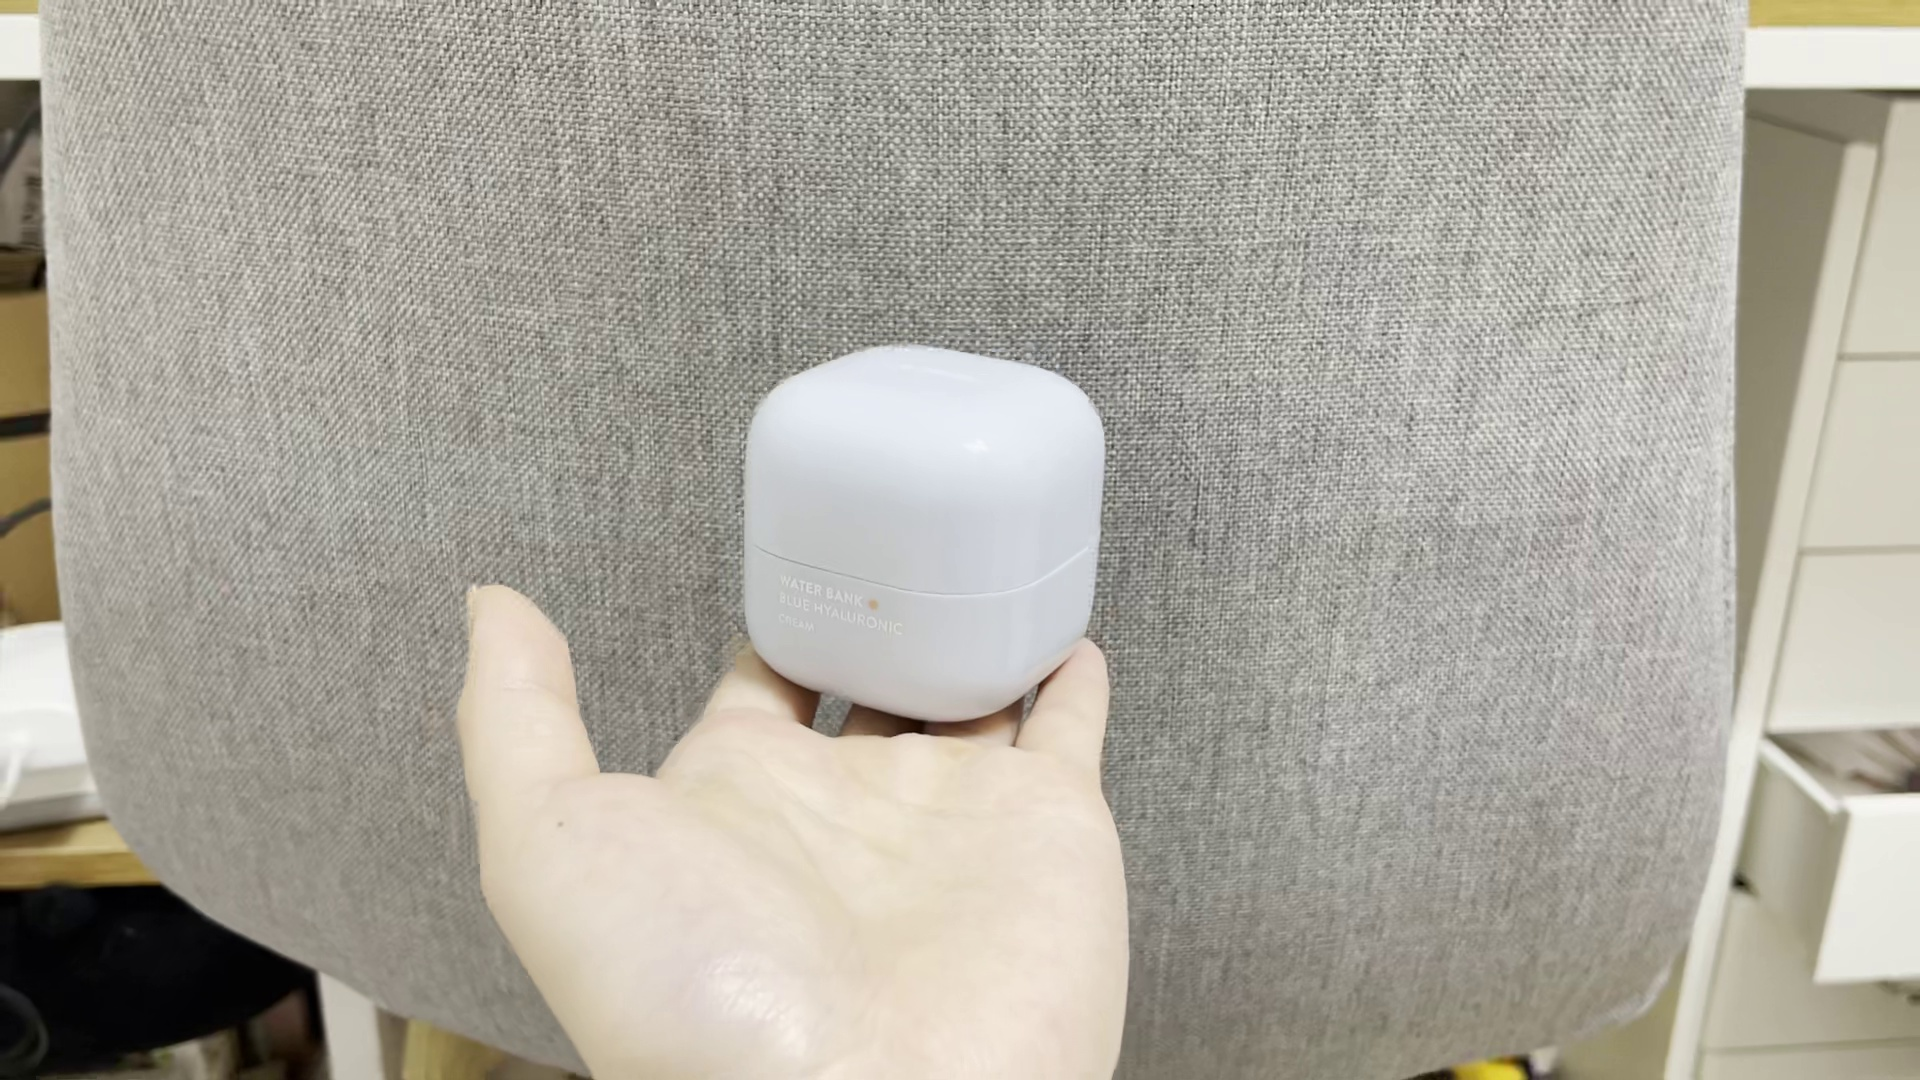cream: (736, 344, 1102, 731)
